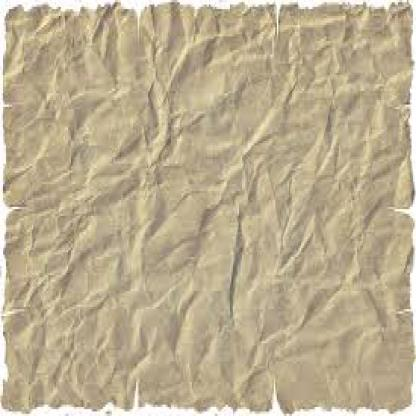paper: (0, 2, 412, 412)
